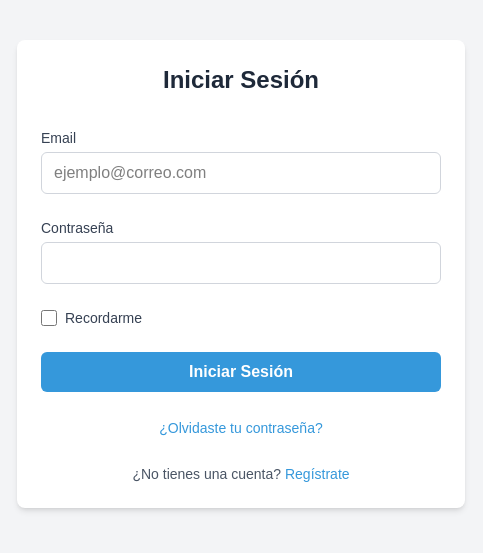
Test case: LoginForm › deberia mostrar errores de validación si se envía vacío
Click the button "Iniciar Sesión" at (241, 372), box [41,352,441,392]
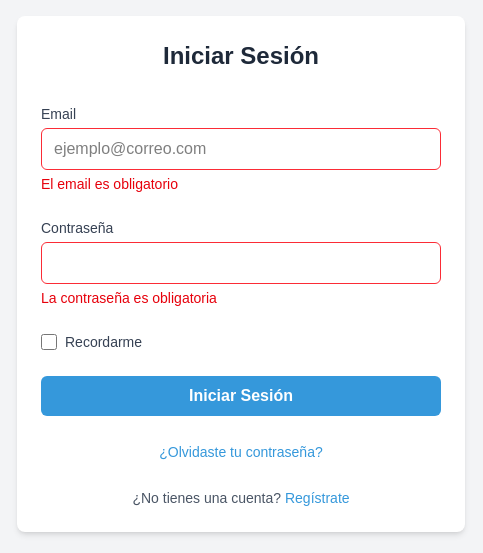
Expected: the text "El email es obligatorio" is shown, [41,176,178,192]
Expected: the text "La contraseña es obligatoria" is shown, [41,290,217,306]
